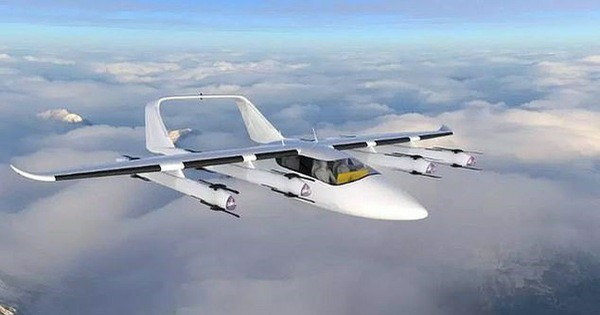maybay_khongnguoilai: (18, 94, 480, 231)
